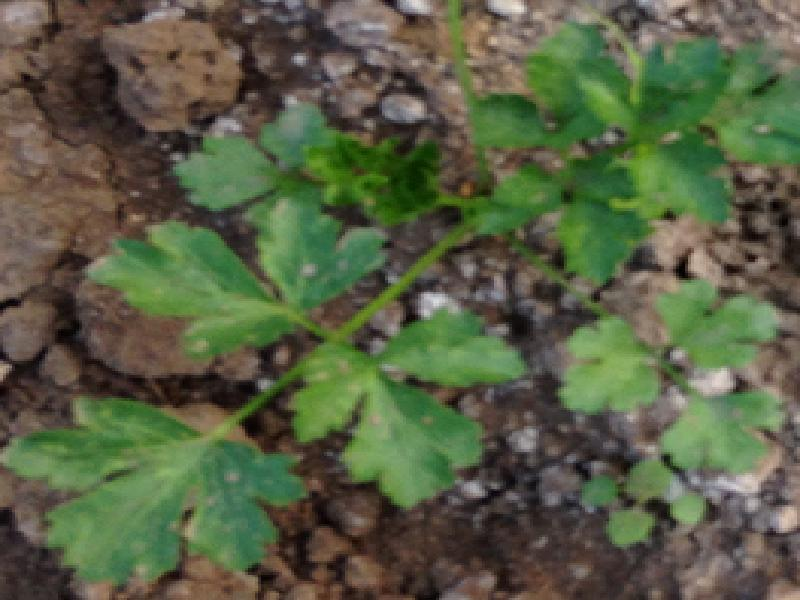radish: (53, 0, 775, 600)
